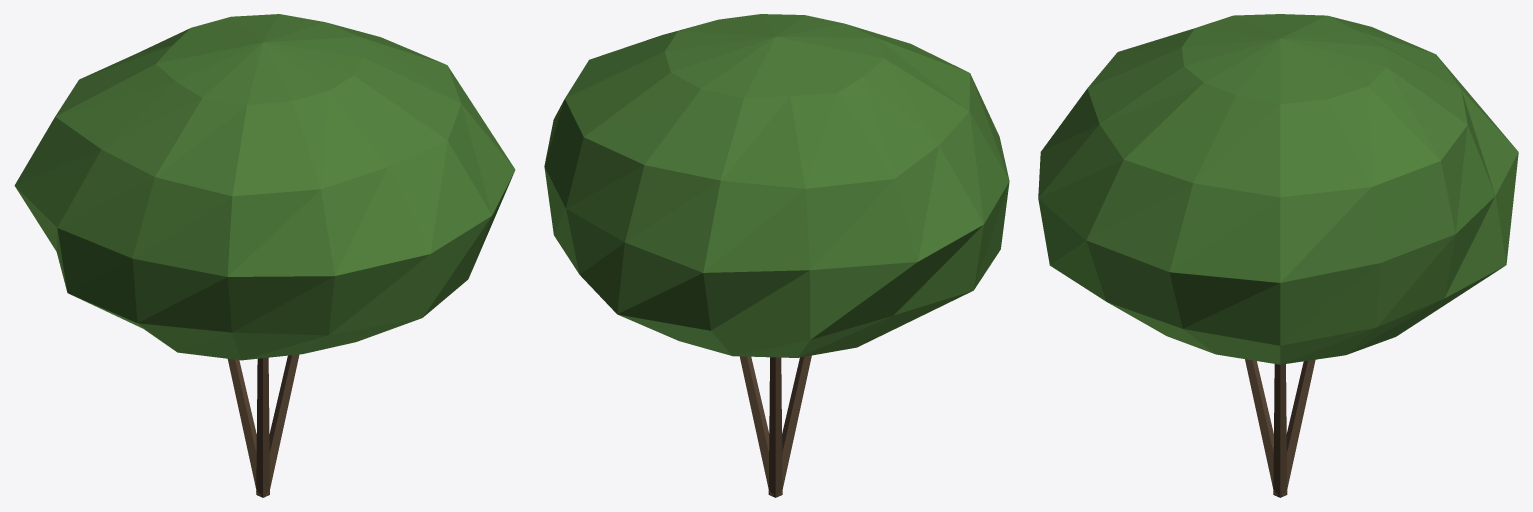
File: small-tree.L1.b31779d4.glb
The picture shows the model from 3 angles, left to right: view 1: azimuth 30°, elevation 25°; view 2: azimuth 150°, elevation 25°; view 3: azimuth 270°, elevation 25°; orthographic projection.
Parts seen in each view (by area): view 1: A-TREES-SMALL-TREE; view 2: A-TREES-SMALL-TREE; view 3: A-TREES-SMALL-TREE.
Part boxes in pixels (left/top/right/bottom): A-TREES-SMALL-TREE: left=14, top=14, right=515, bottom=497; A-TREES-SMALL-TREE: left=544, top=14, right=1009, bottom=497; A-TREES-SMALL-TREE: left=1038, top=14, right=1518, bottom=497.
Size of the model in its own units: 5.43 by 5.52 by 5.27.
